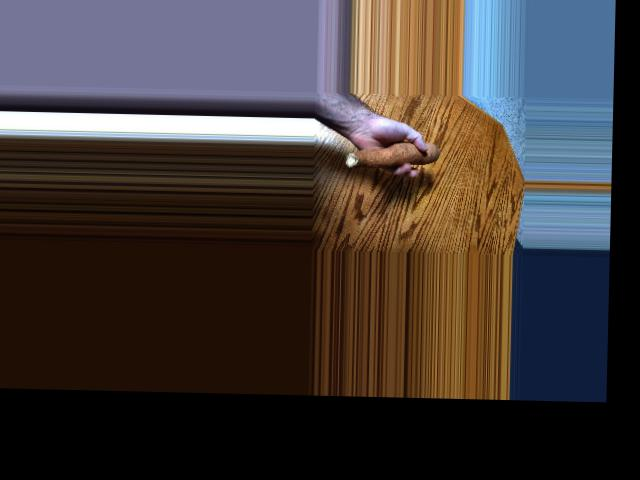sweet_potato: (352, 138, 434, 171)
